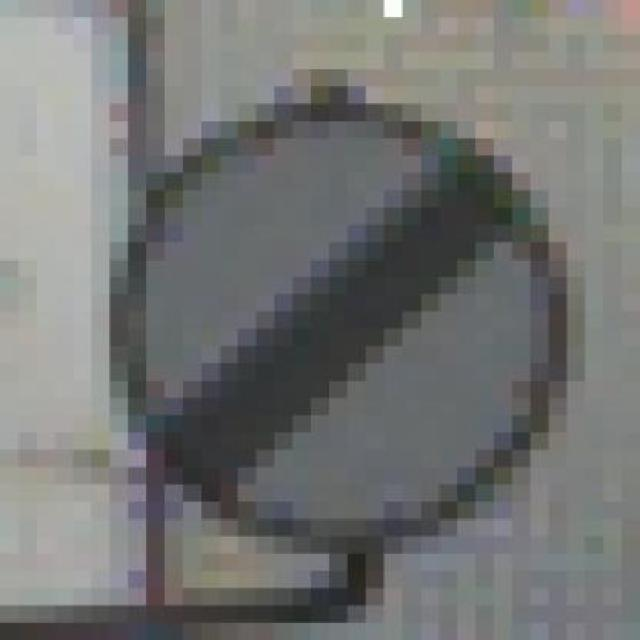End of all speed and passing limits: (92, 86, 586, 554)
